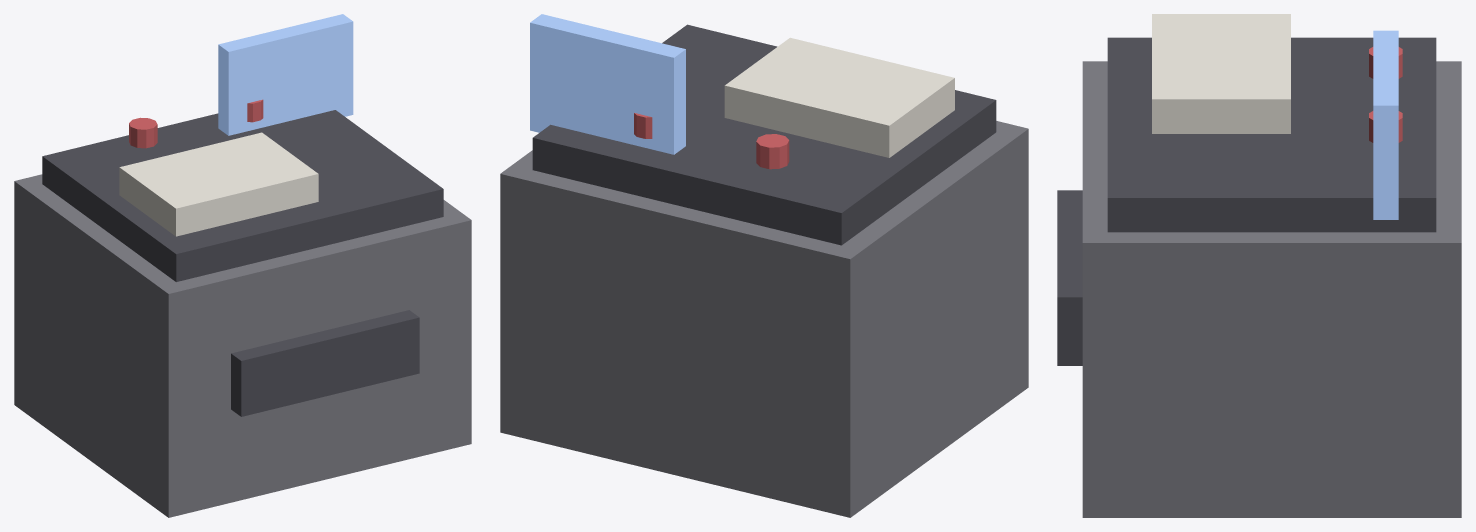
The model's file is casino-floor-and-back-rooms-card-shuffler-e4300e88__27036.glb.
The picture shows the model from 3 angles, left to right: view 1: azimuth 30°, elevation 25°; view 2: azimuth 150°, elevation 25°; view 3: azimuth 270°, elevation 25°; orthographic projection. The views are drawn at different scales.
Visible parts, largest first — view 1: card-shuffler; view 2: card-shuffler; view 3: card-shuffler.
Boxes of the visible parts, x1,y1,x2,y2 form: card-shuffler: [14, 14, 471, 517]; card-shuffler: [500, 14, 1028, 517]; card-shuffler: [1057, 14, 1461, 517].
Bounding box in the file's own units: 0.34 × 0.36 × 0.32.
